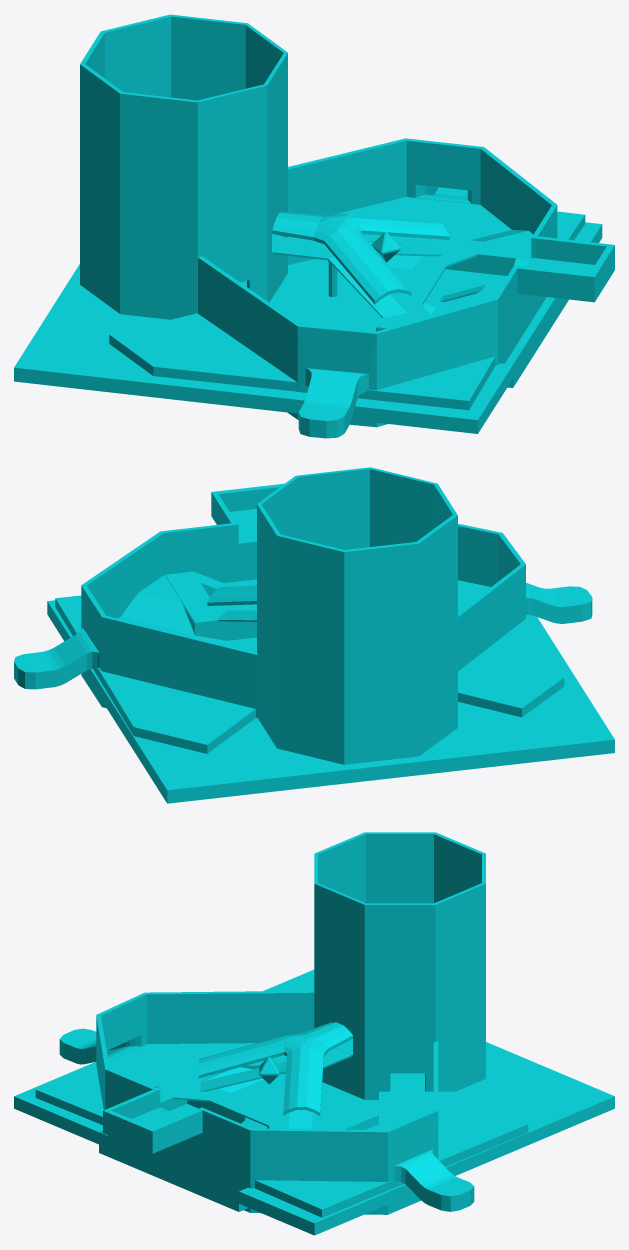
The model's file is StadiumWhiteBlock6.fbx.
The picture shows the model from 3 angles, top to bottom: view 1: azimuth 30°, elevation 25°; view 2: azimuth 150°, elevation 25°; view 3: azimuth 270°, elevation 25°; orthographic projection. The views are drawn at different scales.
Parts seen in each view (by area): view 1: Circle; view 2: Circle; view 3: Circle.
Part boxes in pixels (x1=…): Circle: x1=14, y1=14, x2=614, y2=438; Circle: x1=14, y1=467, x2=614, y2=803; Circle: x1=14, y1=832, x2=614, y2=1235.
Bounding box in the file's own units: 34959 × 14100 × 34959.
